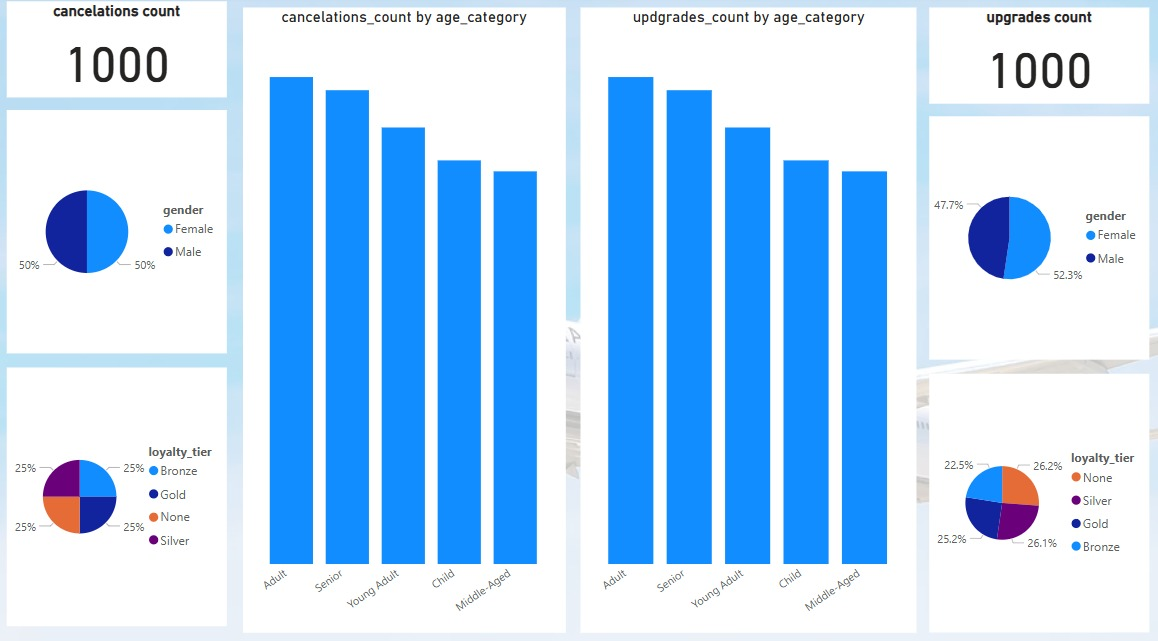

The page's visual inventory and layout, read from the dashboard file:
{"tool":"powerbi","page":{"name":"Page 1","canvas":[1280,720],"ordinal":0},"visuals":[{"type":"card","title":"upgrades count","fields":{"Values":["measures (2).updgrades_count"]},"box":[1022.3,13.7,241.5,105.7],"z":0},{"type":"pieChart","fields":{"Y":["Sum(upgrades_view.total_upgrades)"],"Category":["upgrades_view.gender"]},"box":[1022.3,133.1,241.5,267.6],"z":1000},{"type":"pieChart","fields":{"Category":["upgrades_view.loyalty_tier"],"Y":["measures (2).updgrades_count"]},"box":[1022.3,415.8,241.5,284],"z":2000},{"type":"barChart","fields":{"Category":["upgrades_view.age_category"],"Y":["measures (2).updgrades_count"]},"box":[639.5,13.7,369.1,686.1],"z":3000},{"type":"barChart","title":"cancelations_count by age_category","fields":{"Category":["upgrades_view.age_category"],"Y":["measures (2).updgrades_count"]},"box":[266.2,13.7,354,686.1],"z":4000},{"type":"card","title":"cancelations count","fields":{"Values":["measures (2).canelations_count"]},"box":[9.6,13.7,241.5,98.8],"z":5000},{"type":"pieChart","fields":{"Category":["upgrades_view.gender"],"Y":["measures (2).canelations_count"]},"box":[9.6,126.2,241.5,274.4],"z":6000},{"type":"pieChart","fields":{"Category":["upgrades_view.loyalty_tier"],"Y":["measures (2).canelations_count"]},"box":[9.6,415.8,241.5,284],"z":7000}]}

Visuals, with their boxes in screenshot pixels (x1, y1, x2, y2), scaled from the page's 1280x720 canvas onto the 1158x641 screenshot:
"upgrades count" card: locate(925, 12, 1143, 106)
pieChart - Sum(upgrades_view.total_upgrades) x upgrades_view.gender: locate(925, 118, 1143, 357)
pieChart - upgrades_view.loyalty_tier x measures (2).updgrades_count: locate(925, 370, 1143, 623)
barChart - upgrades_view.age_category x measures (2).updgrades_count: locate(579, 12, 912, 623)
"cancelations_count by age_category" barChart: locate(241, 12, 561, 623)
"cancelations count" card: locate(9, 12, 227, 100)
pieChart - upgrades_view.gender x measures (2).canelations_count: locate(9, 112, 227, 357)
pieChart - upgrades_view.loyalty_tier x measures (2).canelations_count: locate(9, 370, 227, 623)
